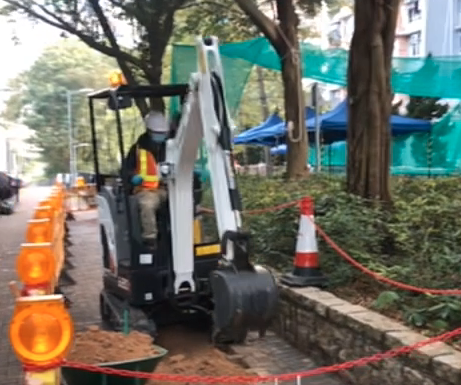Hard Hat: (143, 111, 170, 145)
Person: (125, 112, 192, 253)
Vest: (132, 132, 176, 192)
